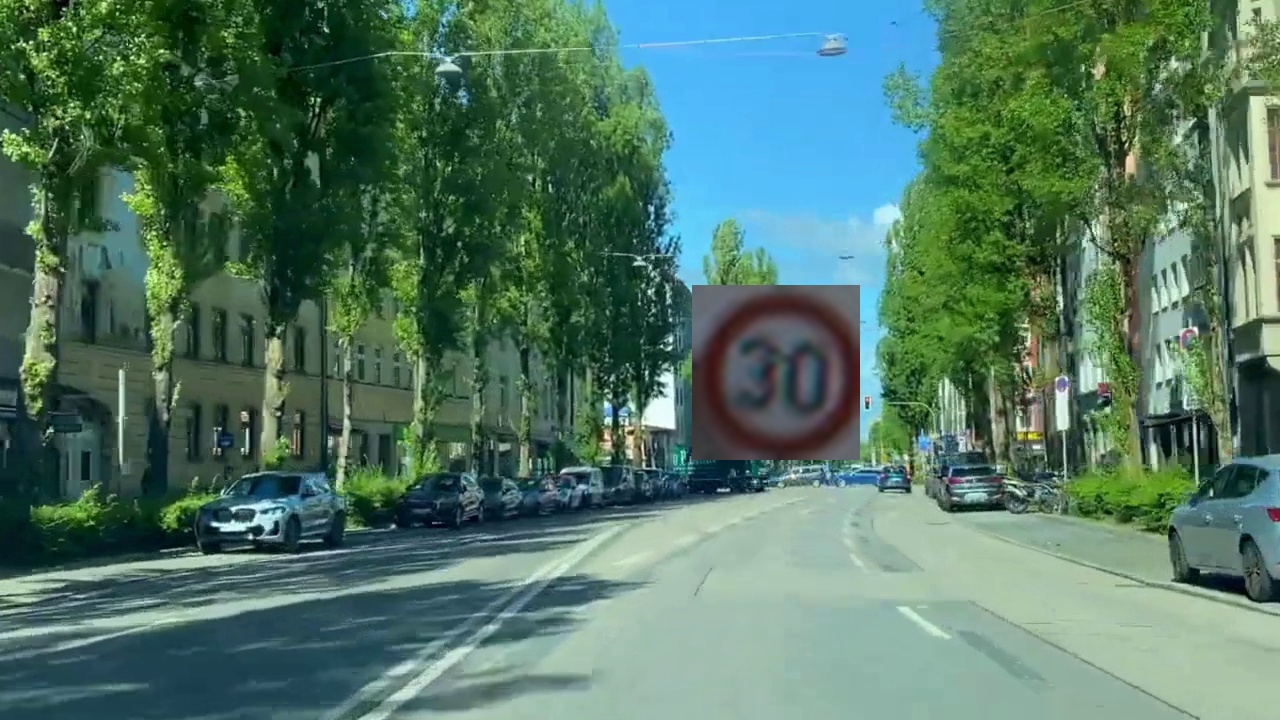Speed 30: (692, 285, 860, 460)
